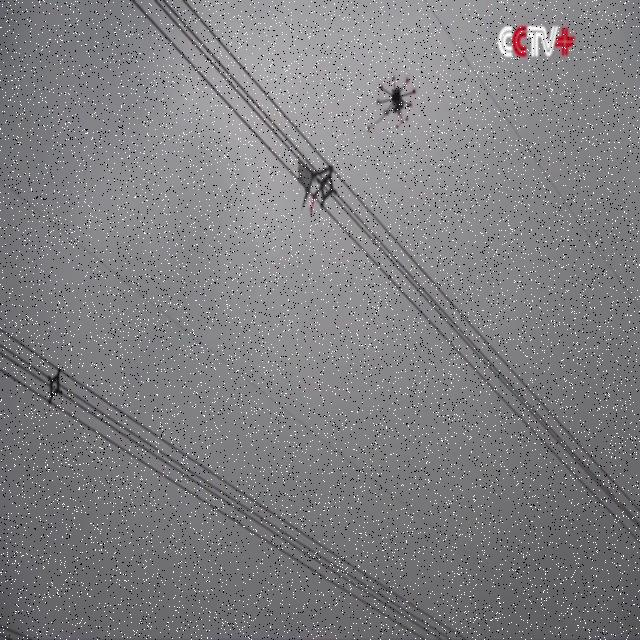UAV: (366, 76, 416, 132)
